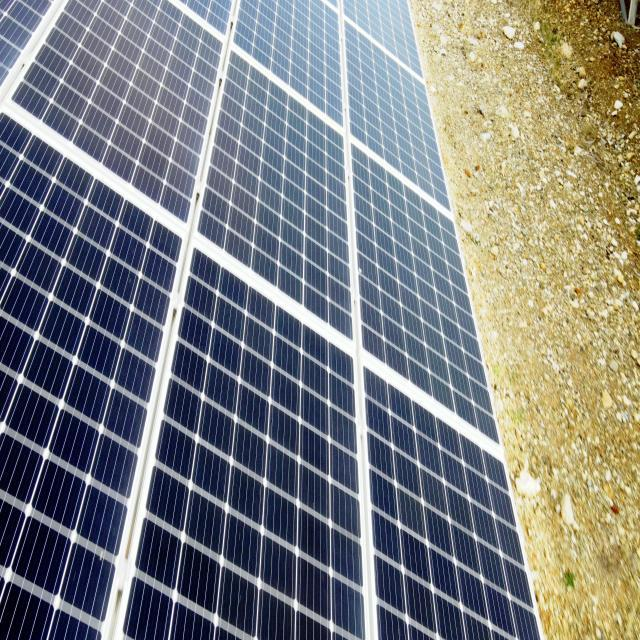no faulty: (4, 7, 542, 640)
